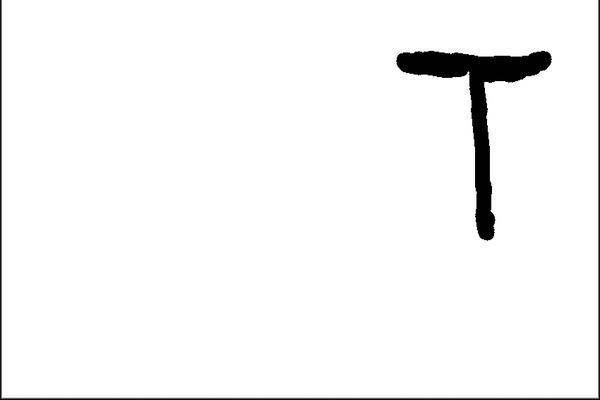T: (389, 40, 552, 233)
